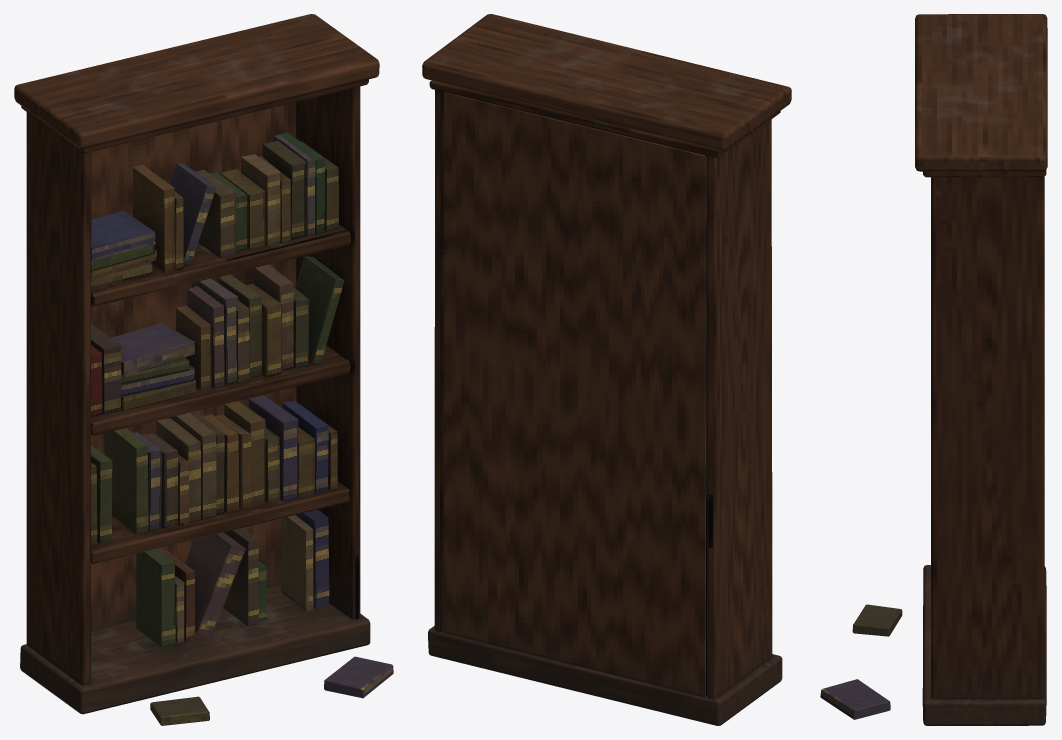
The model's file is bookshelf.glb.
The picture shows the model from 3 angles, left to right: view 1: azimuth 30°, elevation 25°; view 2: azimuth 150°, elevation 25°; view 3: azimuth 270°, elevation 25°; orthographic projection. The views are drawn at different scales.
Parts seen in each view (by area): view 1: Bookshelf; view 2: Bookshelf; view 3: Bookshelf.
Boxes of the visible parts, bbox=[...] form: Bookshelf: bbox=[14, 14, 393, 725]; Bookshelf: bbox=[422, 14, 791, 725]; Bookshelf: bbox=[820, 14, 1047, 725].
Size of the model in its own units: 1.08 by 2.01 by 0.7212.
Materials: 1 (1 with a texture image).
